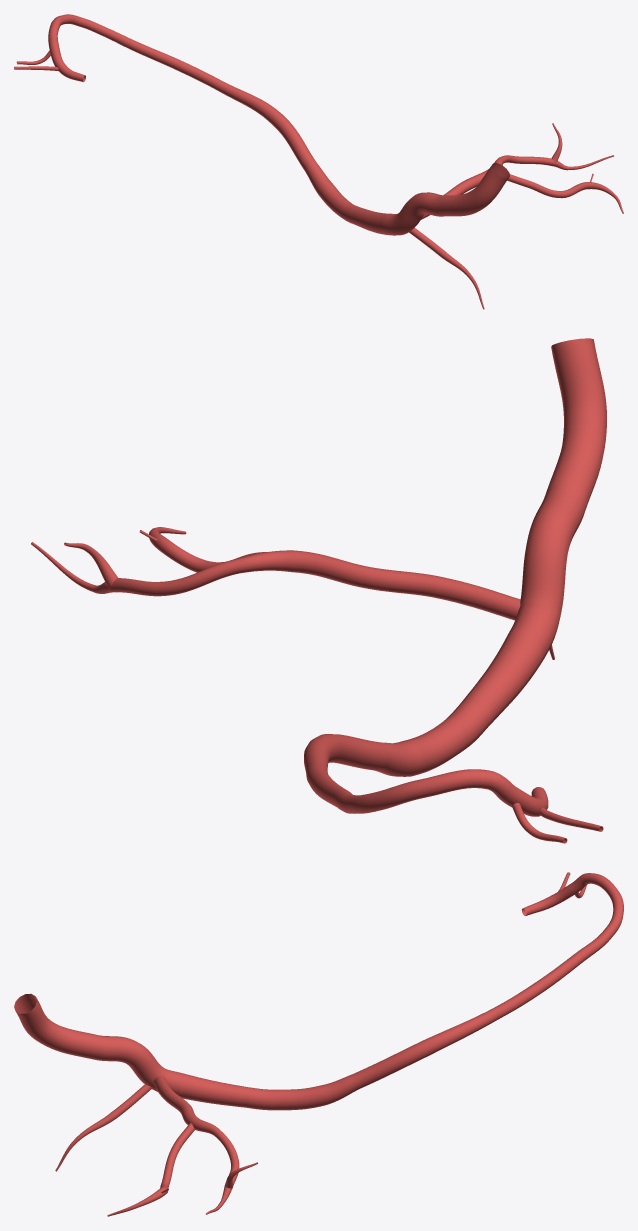
3 renders of one model, top to bottom at view 1: azimuth 30°, elevation 25°; view 2: azimuth 150°, elevation 25°; view 3: azimuth 270°, elevation 25°, orthographic. The views are drawn at different scales.
Parts seen in each view (by area): view 1: 肠系膜上动脉; view 2: 肠系膜上动脉; view 3: 肠系膜上动脉.
Boxes of the visible parts, x1,y1,x2,y2 form: 肠系膜上动脉: (14,14,623,309); 肠系膜上动脉: (31,338,606,843); 肠系膜上动脉: (14,872,623,1216).
Bounding box in the file's own units: 0.2069 × 0.0732 × 0.2146.
